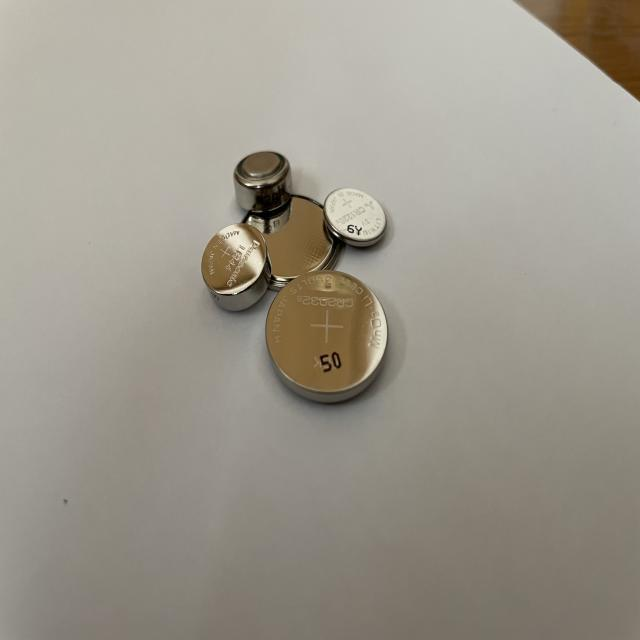COIN: (264, 270, 391, 408), (238, 196, 340, 294), (198, 222, 274, 314), (233, 147, 294, 215), (322, 187, 388, 247)
